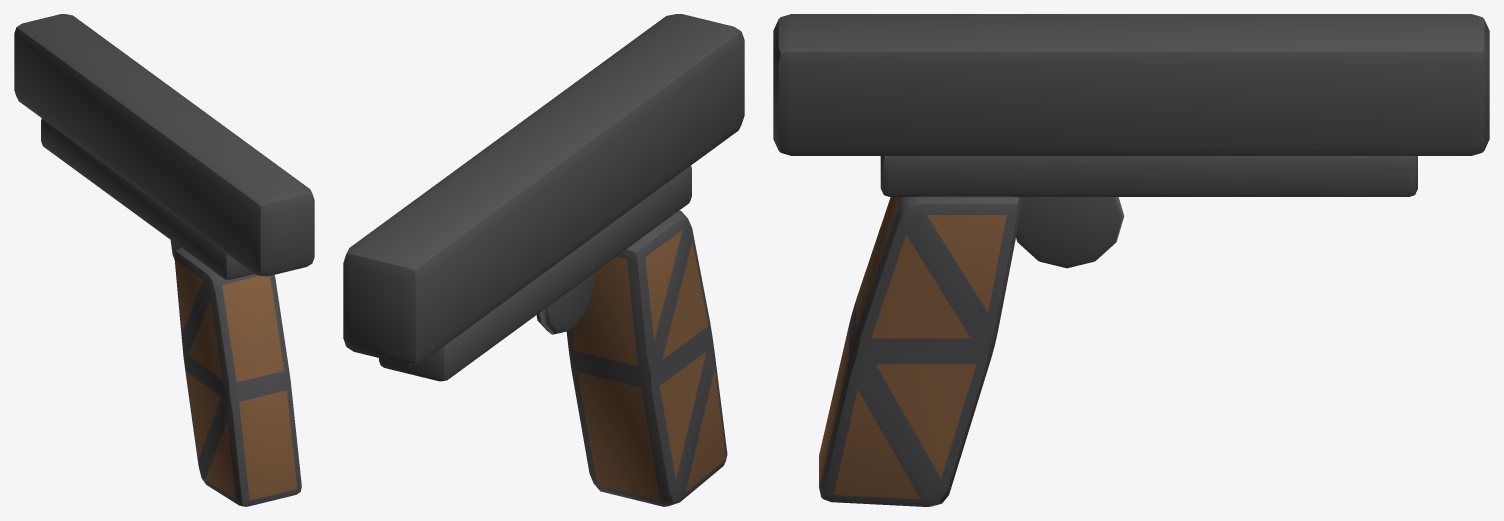
3 renders of one model, left to right at view 1: azimuth 30°, elevation 25°; view 2: azimuth 150°, elevation 25°; view 3: azimuth 270°, elevation 25°, orthographic. The views are drawn at different scales.
Visible parts, largest first — view 1: m1911_LOD0; view 2: m1911_LOD0; view 3: m1911_LOD0.
Boxes of the visible parts, <box> form: m1911_LOD0: <box>14,14,314,506</box>; m1911_LOD0: <box>343,14,744,506</box>; m1911_LOD0: <box>773,14,1489,506</box>.
Bounding box in the file's own units: 0.03 × 0.1423 × 0.2.
